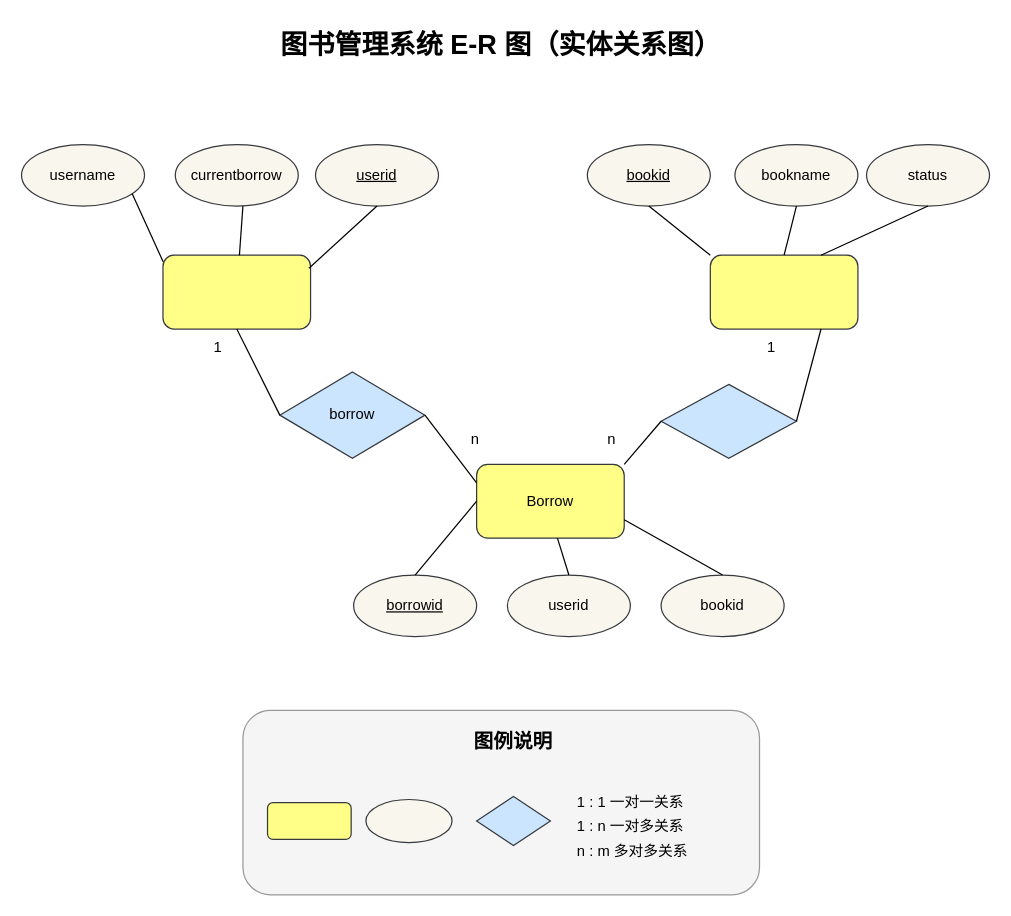
Some shapes in this 1011 by 916 pixel diagram are drawn without their labels. Here are the shapes that lost their labels. From the top down, the centre of each, then its label:
At pixel 236 291: "User".
At pixel 783 291: "Book表".
At pixel 728 420: "involved".
At pixel 308 820: "实体".
At pixel 408 820: "属性".
At pixel 512 820: "联系".
